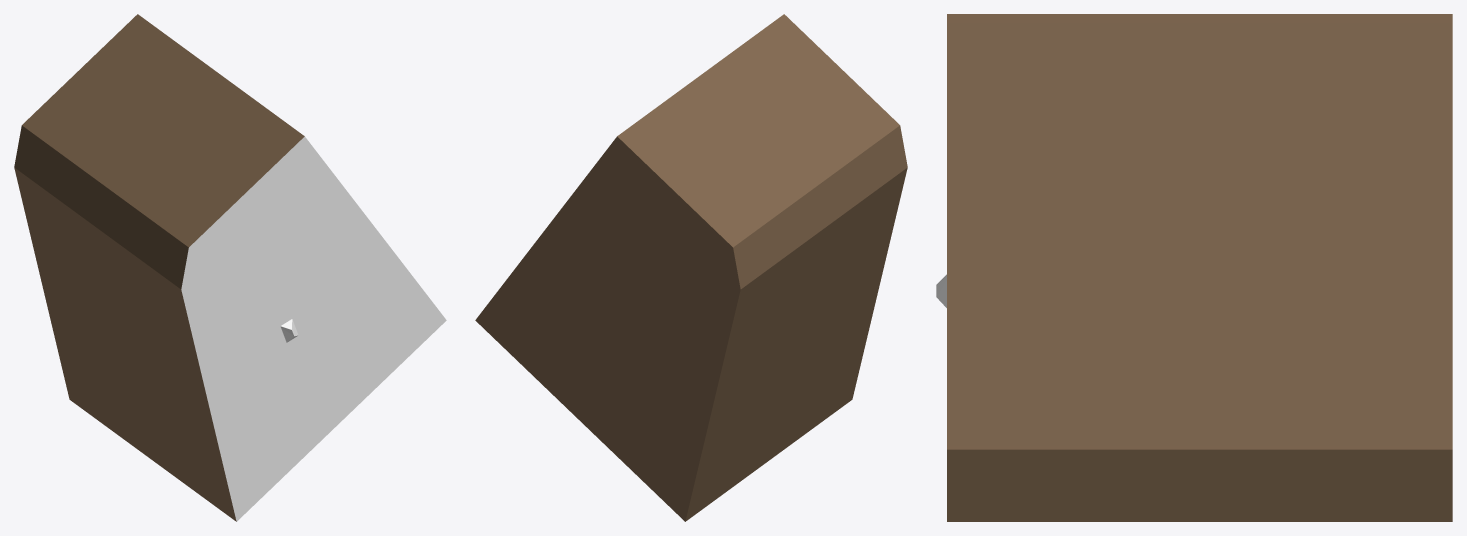
The picture shows the model from 3 angles, left to right: view 1: azimuth 30°, elevation 25°; view 2: azimuth 150°, elevation 25°; view 3: azimuth 270°, elevation 25°; orthographic projection. The views are drawn at different scales.
Visible parts, largest first — view 1: City_1884672; view 2: City_1884672; view 3: City_1884672.
Boxes of the visible parts, x1,y1,x2,y2 form: City_1884672: (14,14,446,521); City_1884672: (475,14,907,521); City_1884672: (936,14,1452,521).
Bounding box in the file's own units: 1405 × 1866 × 1564.
